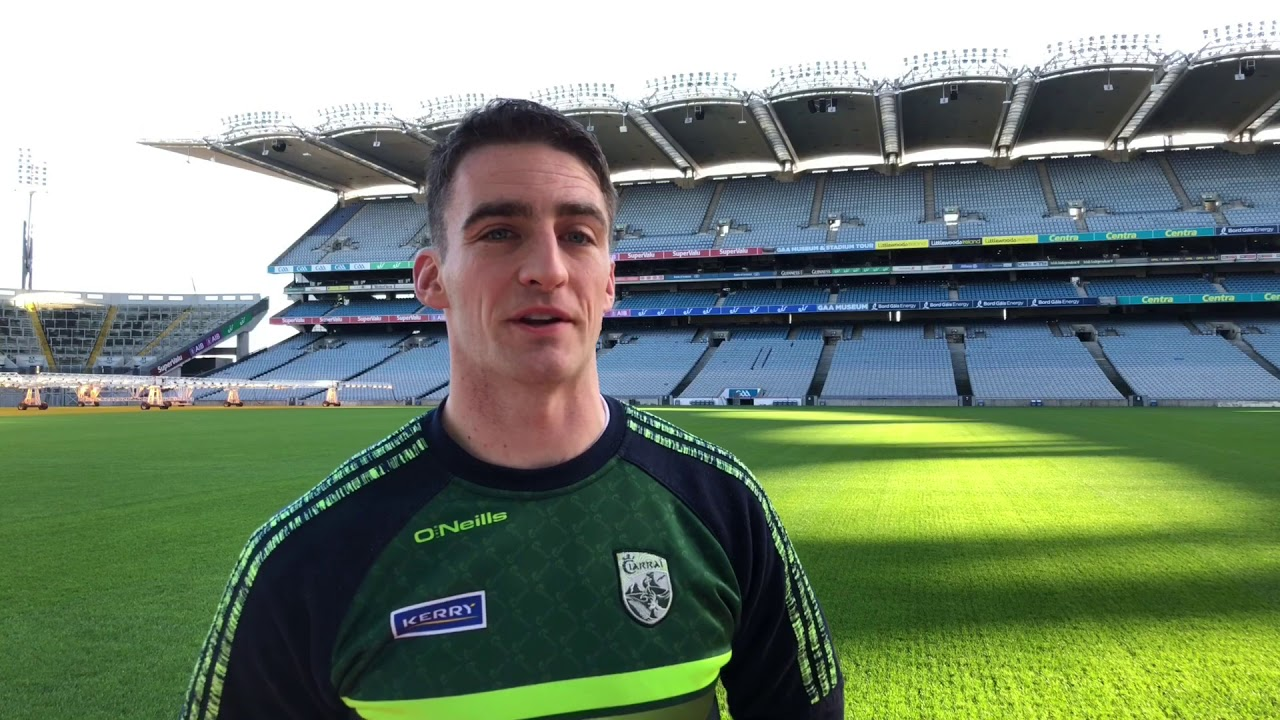player: (362, 117, 774, 689)
